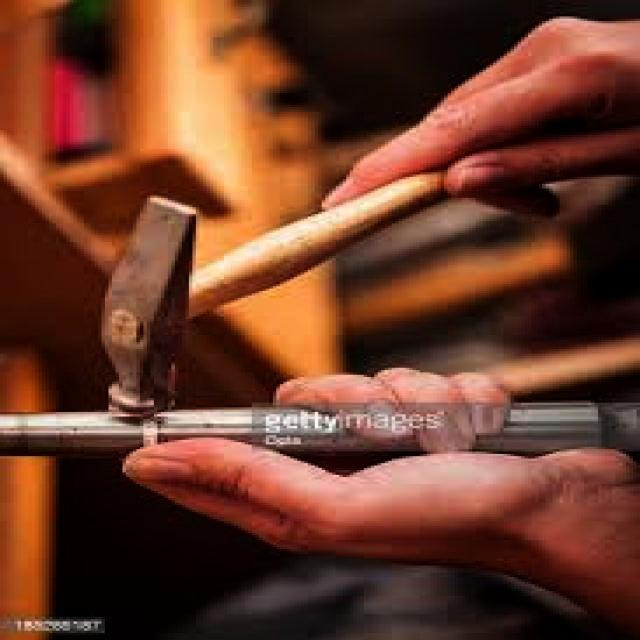hammer: (71, 168, 456, 416)
